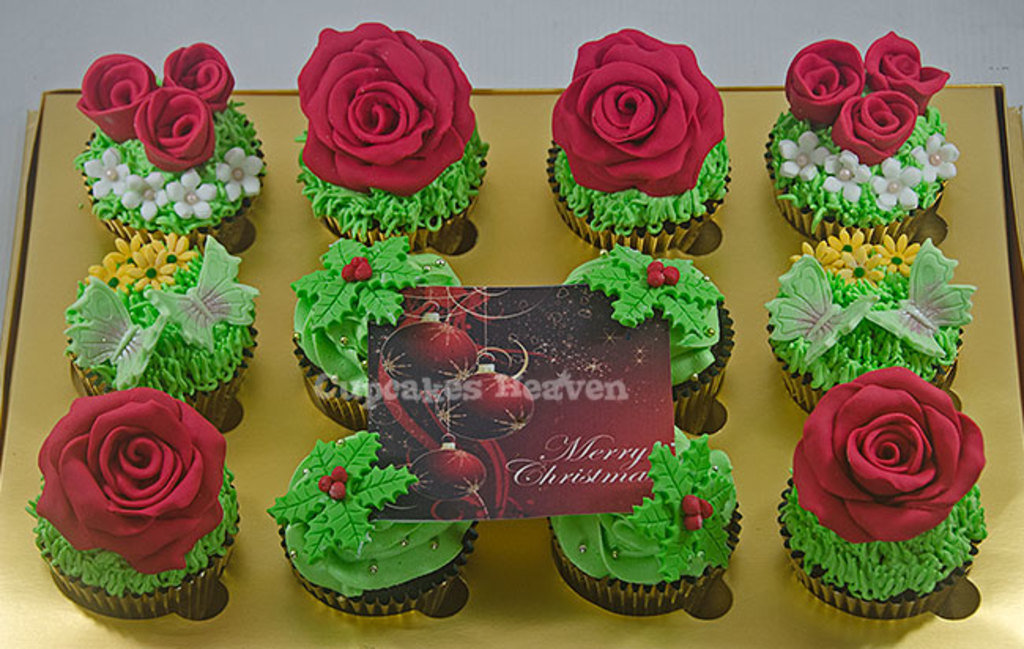cake: (769, 358, 992, 621), (16, 381, 255, 621), (65, 32, 282, 254), (539, 20, 739, 255), (295, 13, 493, 249), (755, 24, 956, 246), (523, 417, 748, 613), (57, 228, 266, 432), (762, 221, 977, 419), (263, 427, 487, 616), (556, 238, 744, 424), (287, 227, 462, 425)
